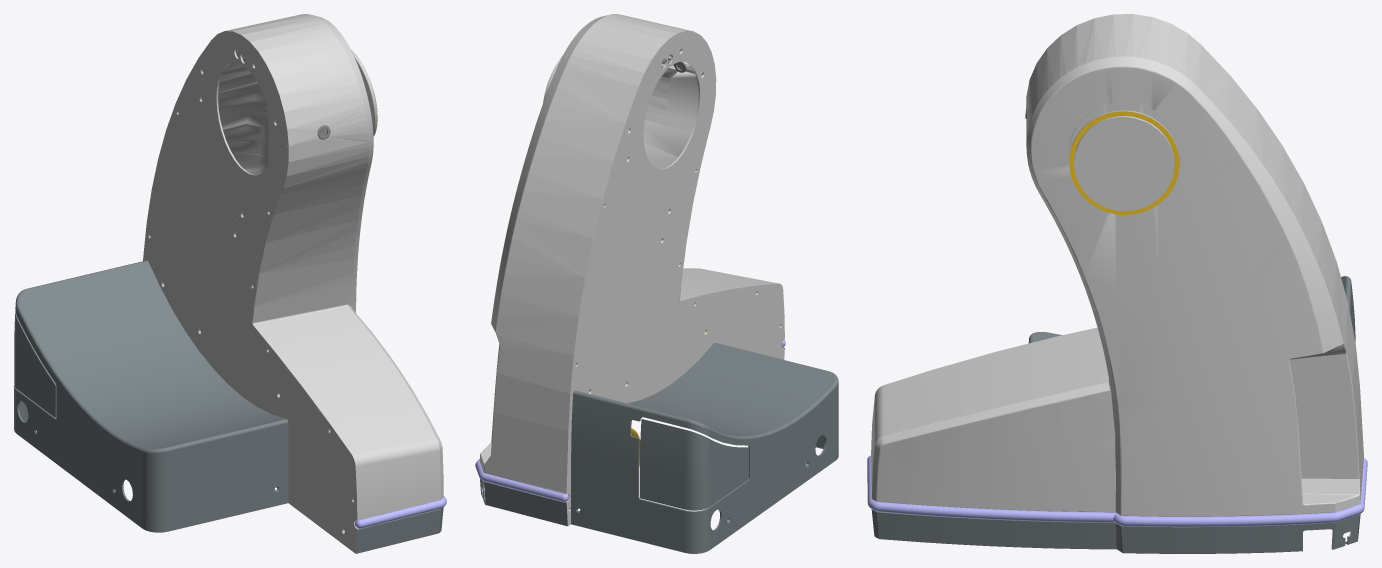
File: LeftLeg_LXC_Light.fbx
3 views of the same model, side by side, from view 1: azimuth 30°, elevation 25°; view 2: azimuth 150°, elevation 25°; view 3: azimuth 270°, elevation 25° (orthographic). The views are drawn at different scales.
Visible parts, largest first — view 1: LeftLegLXC; view 2: LeftLegLXC; view 3: LeftLegLXC.
Part boxes in pixels (bbox=[...]): LeftLegLXC: bbox=[14, 14, 446, 553]; LeftLegLXC: bbox=[475, 14, 838, 553]; LeftLegLXC: bbox=[867, 14, 1367, 553].
Bounding box in the file's own units: 46.8 × 77.35 × 71.9.
